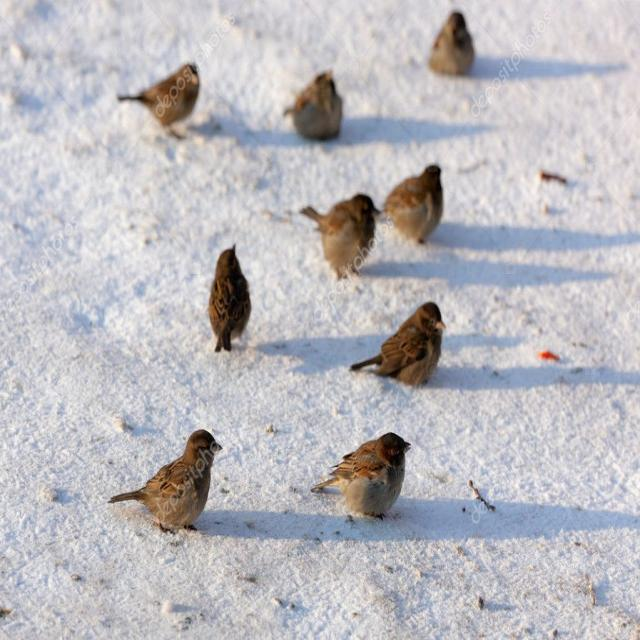bird: (104, 423, 227, 535), (112, 52, 206, 139), (312, 431, 408, 515), (345, 300, 443, 382), (300, 186, 374, 279), (206, 240, 256, 355)
